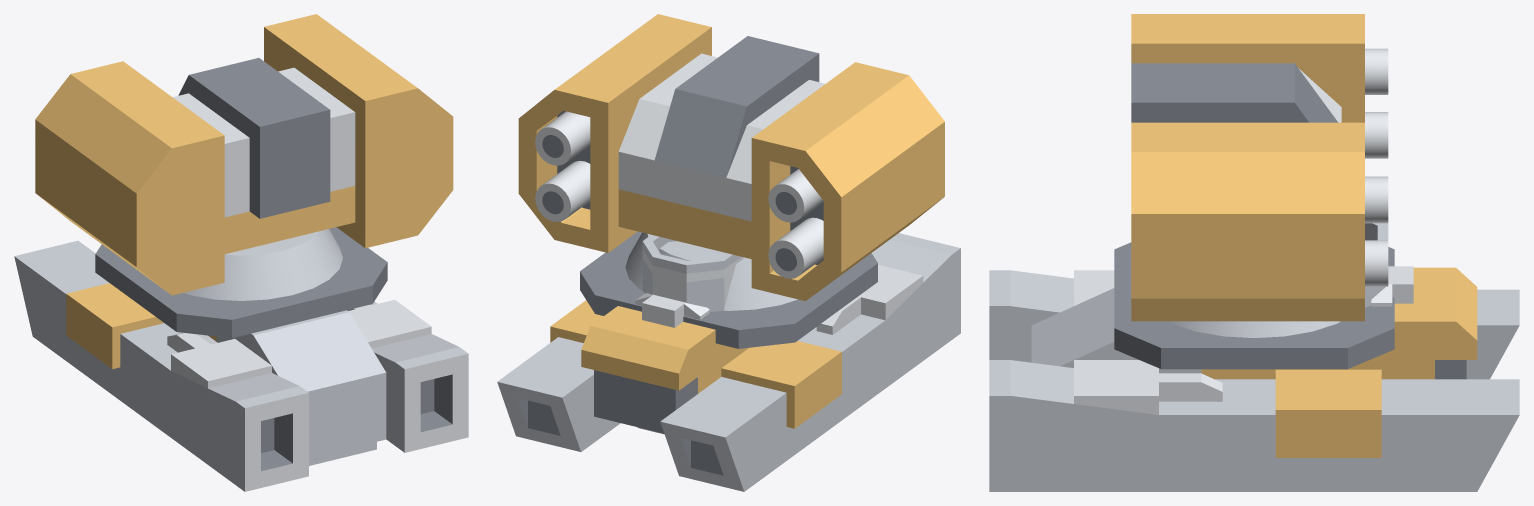
Rendered from unit_bulwark.glb.
3 renders of one model, left to right at view 1: azimuth 30°, elevation 25°; view 2: azimuth 150°, elevation 25°; view 3: azimuth 270°, elevation 25°, orthographic. The views are drawn at different scales.
Visible parts, largest first — view 1: turret.001, craft_cargoB, turret_double.001; view 2: turret.001, craft_cargoB, turret_double.001, rocket_fuelB; view 3: craft_cargoB, turret.001, turret_double.001, rocket_fuelB.
Part boxes in pixels (box(x1,y1,x2,y2)): turret.001: box(35, 14, 453, 295); craft_cargoB: box(14, 240, 468, 491); turret_double.001: box(95, 227, 387, 338); turret.001: box(518, 14, 944, 300); craft_cargoB: box(497, 233, 960, 491); turret_double.001: box(580, 231, 877, 348); rocket_fuelB: box(642, 235, 743, 311); craft_cargoB: box(989, 266, 1519, 491); turret.001: box(1131, 14, 1388, 321); turret_double.001: box(1114, 242, 1394, 369); rocket_fuelB: box(1365, 223, 1388, 307).
Size of the model in its own units: 1.41 by 1.35 by 1.78.
